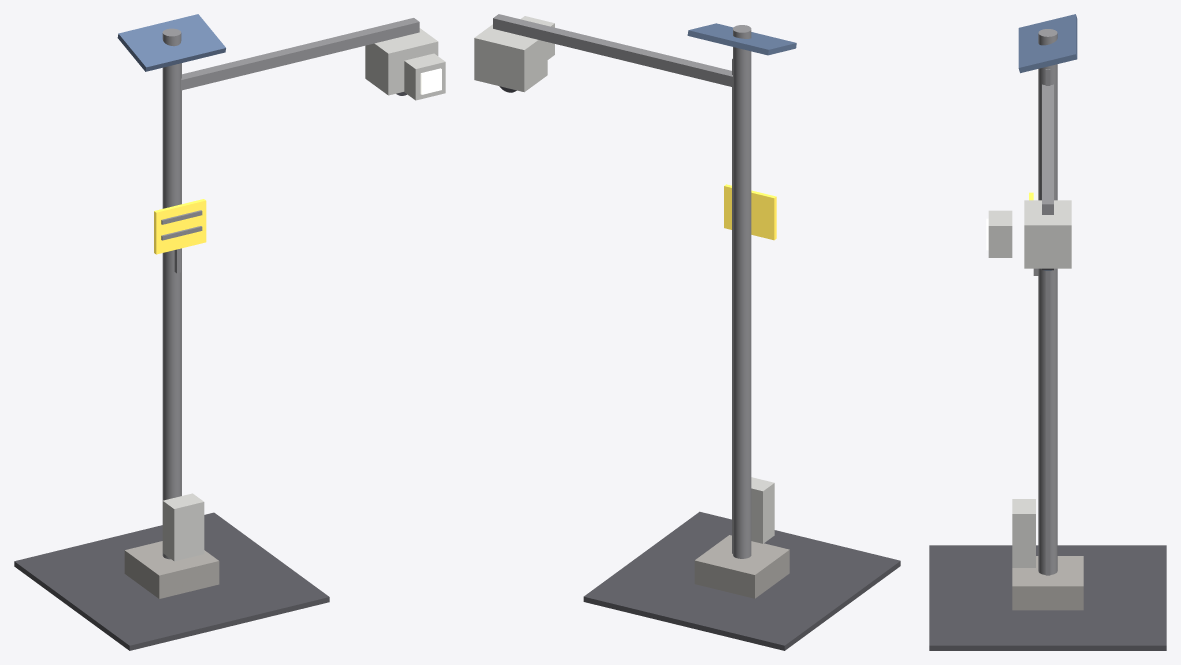
File: traffic_camera.glb
3 renders of one model, left to right at view 1: azimuth 30°, elevation 25°; view 2: azimuth 150°, elevation 25°; view 3: azimuth 270°, elevation 25°, orthographic. The views are drawn at different scales.
Visible parts, largest first — view 1: pad, pole, arm, footing, solar_panel, housing, junction, sign_board, flash_housing; view 2: pad, pole, arm, footing, housing, solar_panel, sign_board, junction; view 3: pad, pole, footing, housing, solar_panel, conduit, junction, arm, flash_housing.
Part boxes in pixels (x1,y1,x2,y2): pad: (14, 512, 329, 650); pole: (162, 28, 181, 559); arm: (181, 18, 419, 90); footing: (124, 541, 219, 598); solar_panel: (117, 14, 225, 71); housing: (365, 28, 438, 95); junction: (162, 493, 204, 561); sign_board: (154, 199, 206, 254); flash_housing: (404, 53, 445, 100); pad: (583, 511, 900, 650); pole: (733, 25, 751, 558); arm: (493, 14, 732, 87); footing: (694, 535, 789, 598); housing: (474, 24, 547, 92); solar_panel: (687, 23, 796, 55); sign_board: (724, 184, 776, 240); junction: (751, 477, 774, 543); pad: (929, 545, 1166, 650); pole: (1038, 29, 1057, 574); footing: (1012, 556, 1083, 610); housing: (1024, 200, 1071, 268); solar_panel: (1018, 14, 1077, 73); conduit: (1045, 69, 1050, 575); junction: (1012, 499, 1035, 567); arm: (1042, 84, 1053, 214); flash_housing: (988, 210, 1012, 257).
Bounding box in the file's own units: 3.55 × 5.3 × 2.
